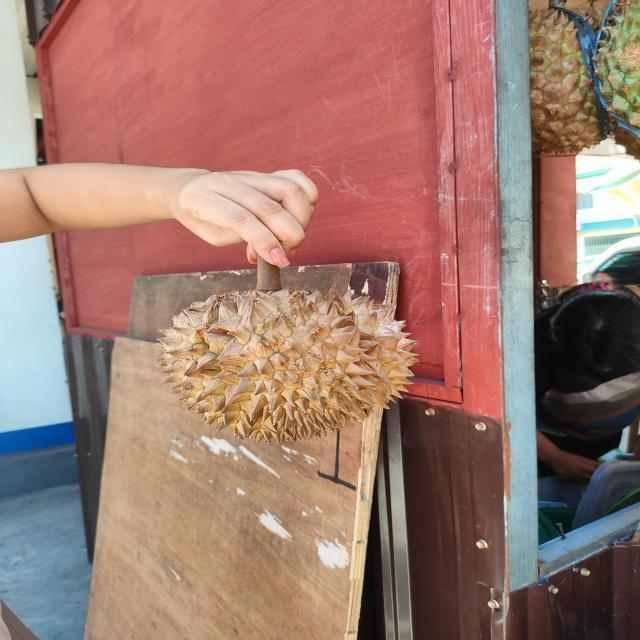mature: (156, 287, 422, 446)
